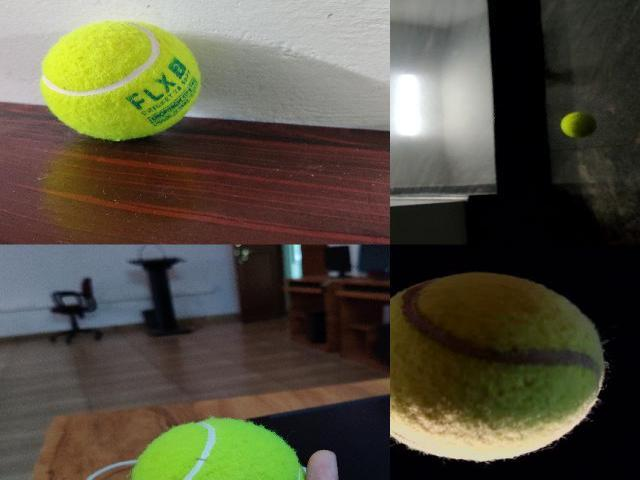tennis-ball: (390, 269, 606, 462), (39, 19, 201, 140), (130, 418, 305, 479), (560, 112, 596, 138)
